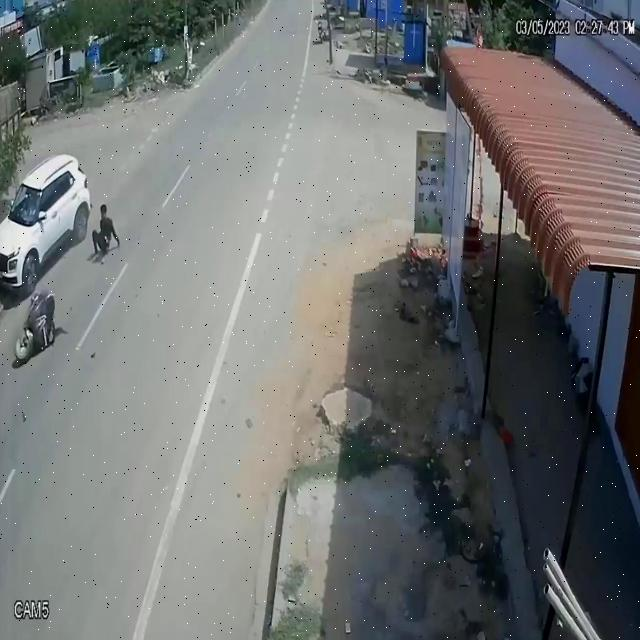accident: (0, 146, 124, 373)
